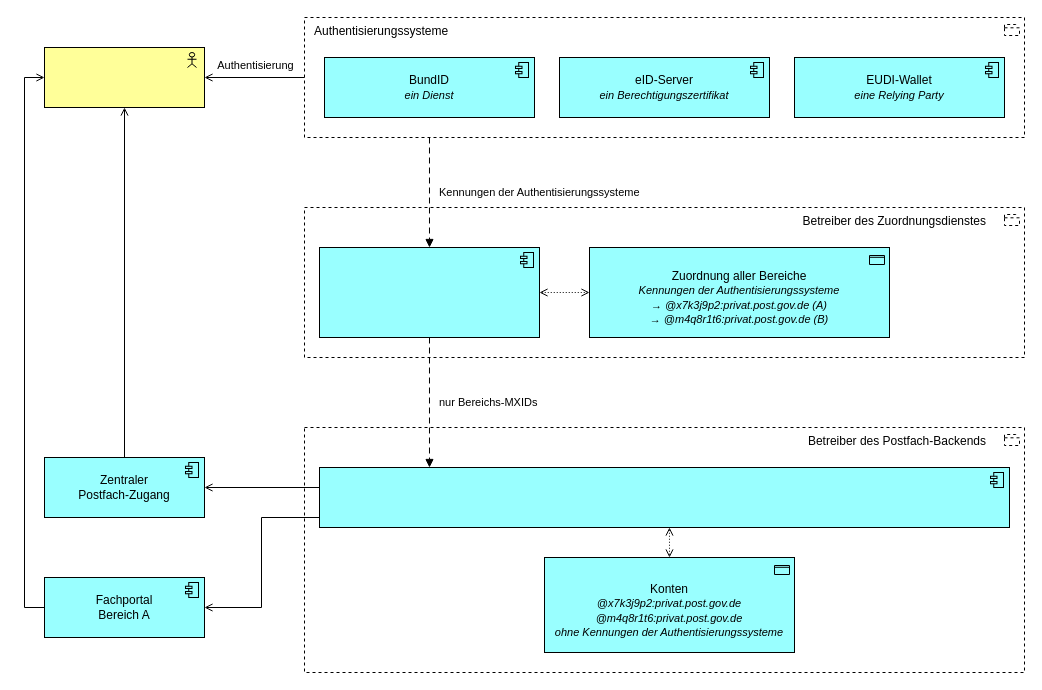
This 1042x690 diagram has some shape labels left out. Here are the shapes that lost their labels. From the top down, the centre of each, then its label:
point (124, 77): Privatperson
point (429, 292): Zentraler Zuordnungsdienst
point (664, 497): Postfach-Backend für Privatpersonen
